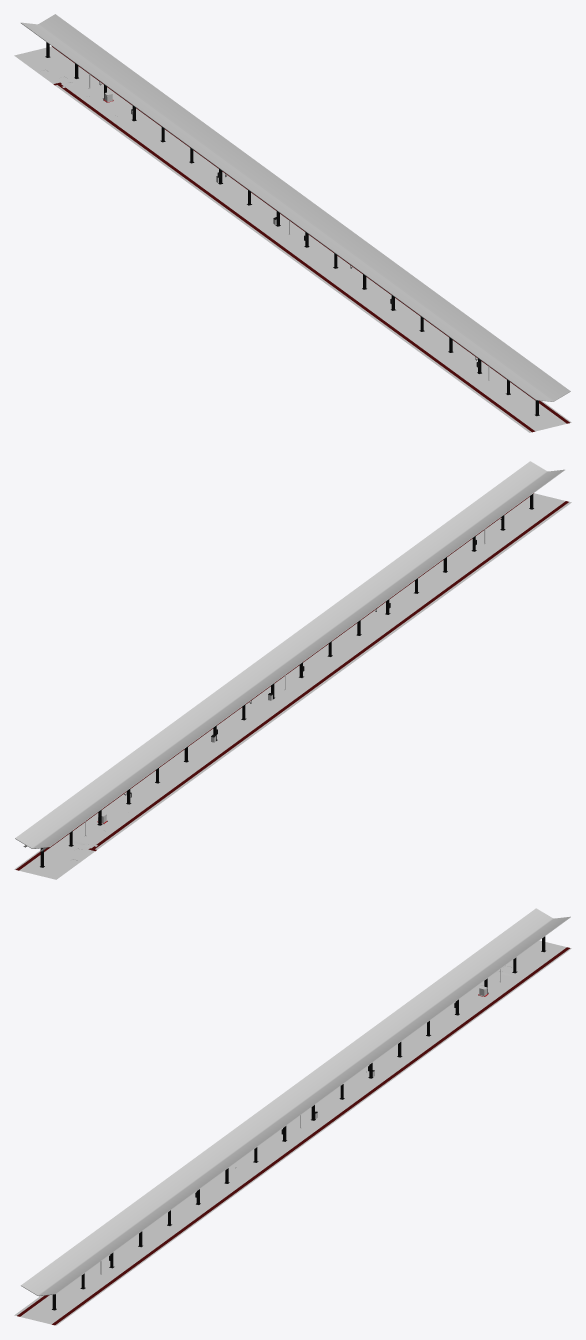
File: station.glb
The picture shows the model from 3 angles, top to bottom: view 1: azimuth 30°, elevation 25°; view 2: azimuth 150°, elevation 25°; view 3: azimuth 330°, elevation 25°; orthographic projection.
Visible parts, largest first — view 1: Roof_MAt, Floor, Material.004, I_beam; view 2: Roof_MAt, Floor, Material.004, I_beam; view 3: Roof_MAt, Floor, Material.004, I_beam.
Part boxes in pixels (bbox=[...]): Roof_MAt: bbox=[21, 14, 570, 401]; Floor: bbox=[14, 46, 571, 432]; Material.004: bbox=[52, 46, 569, 432]; I_beam: bbox=[45, 42, 539, 416]; Roof_MAt: bbox=[15, 461, 564, 848]; Floor: bbox=[14, 493, 571, 879]; Material.004: bbox=[15, 493, 568, 870]; I_beam: bbox=[40, 494, 533, 867]; Roof_MAt: bbox=[21, 908, 570, 1296]; Floor: bbox=[14, 940, 571, 1325]; Material.004: bbox=[17, 947, 569, 1325]; I_beam: bbox=[52, 936, 545, 1310].
Size of the model in its own units: 2.68 by 2.76 by 55.59.
